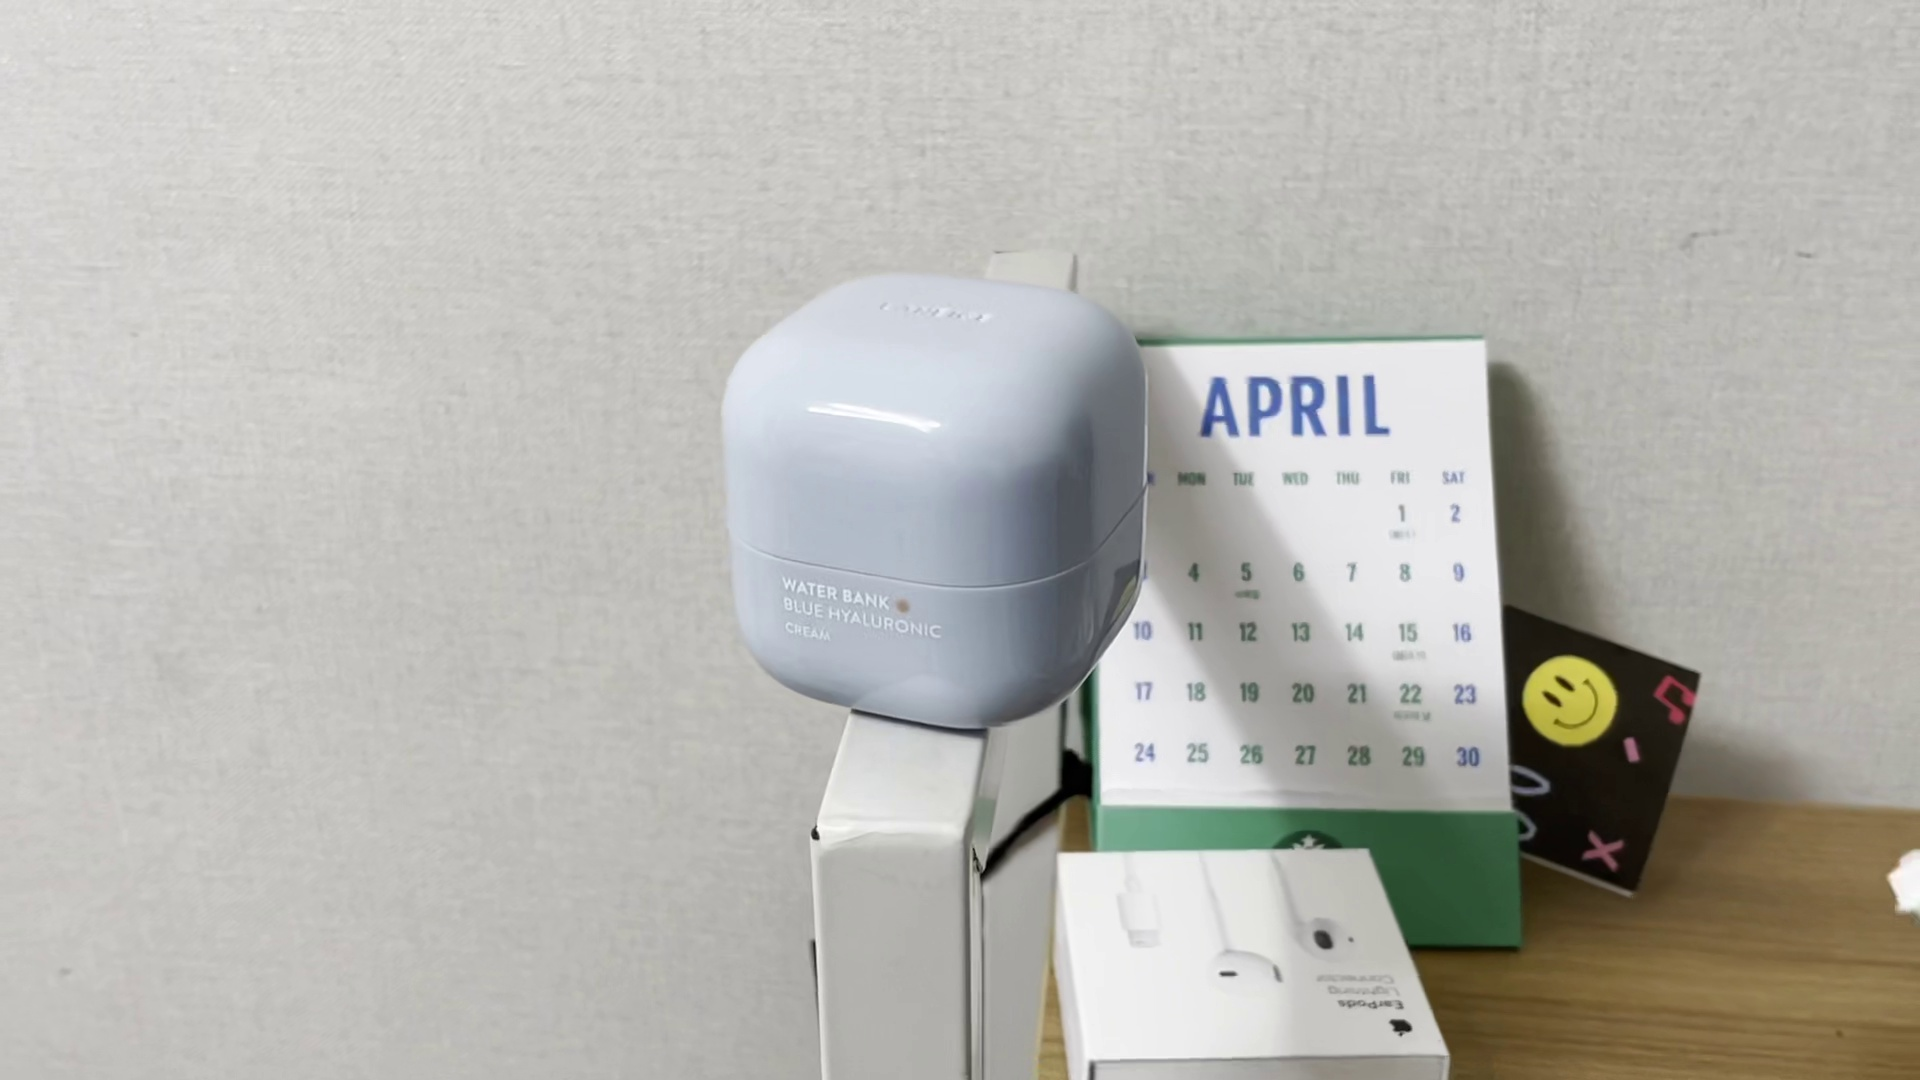cream: (716, 270, 1146, 735)
